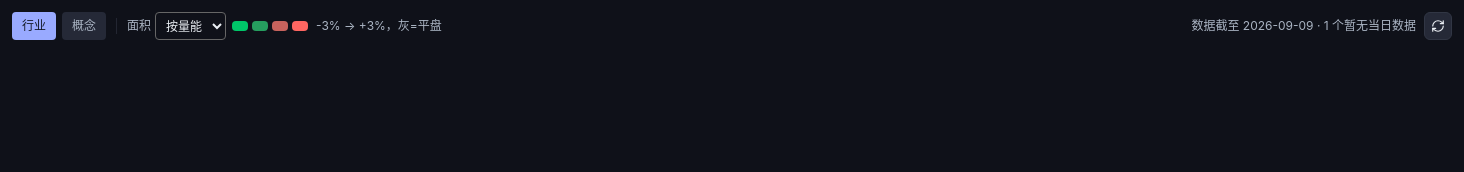
BoardHeatmap 板块热力图 › 刷新失败时保留上次数据并显示 amber 提示
Click the button titled "刷新": (1438, 26) x1=1424 y1=12 x2=1452 y2=40
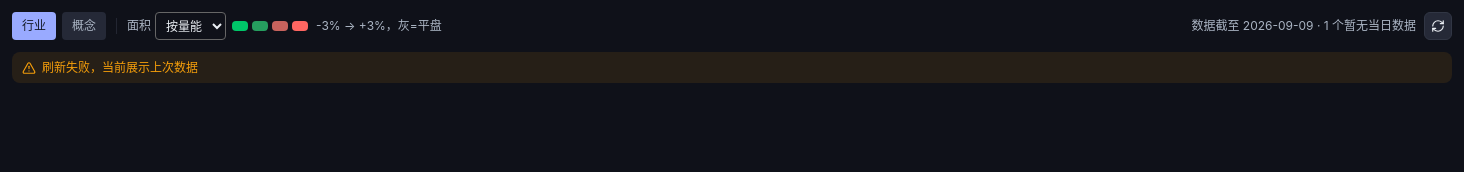
Result: the text "刷新失败，当前展示上次数据" is shown at x1=12 y1=52 x2=1452 y2=83
